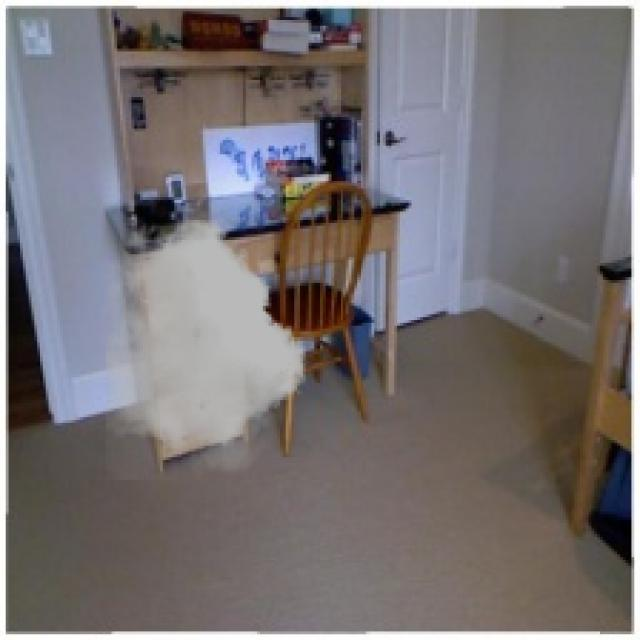smoke: (106, 214, 306, 480)
